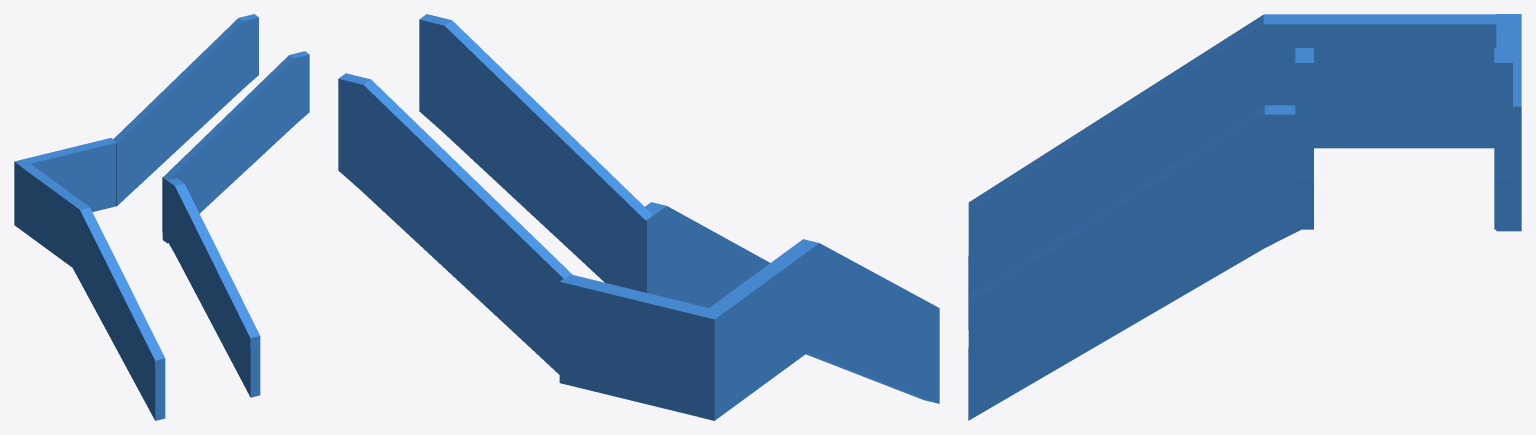
The model's file is Collision_Stair_Interior_Rails_Corner.fbx.
3 renders of one model, left to right at view 1: azimuth 30°, elevation 25°; view 2: azimuth 150°, elevation 25°; view 3: azimuth 270°, elevation 25°, orthographic. The views are drawn at different scales.
Parts seen in each view (by area): view 1: UCX_Stair_Interior_Rails_Corner_04; view 2: UCX_Stair_Interior_Rails_Corner_04; view 3: UCX_Stair_Interior_Rails_Corner_04.
Boxes of the visible parts, x1,y1,x2,y2 form: UCX_Stair_Interior_Rails_Corner_04: [14, 14, 309, 420]; UCX_Stair_Interior_Rails_Corner_04: [338, 14, 939, 420]; UCX_Stair_Interior_Rails_Corner_04: [968, 14, 1521, 420].
Bounding box in the file's own units: 399 × 396 × 410.
